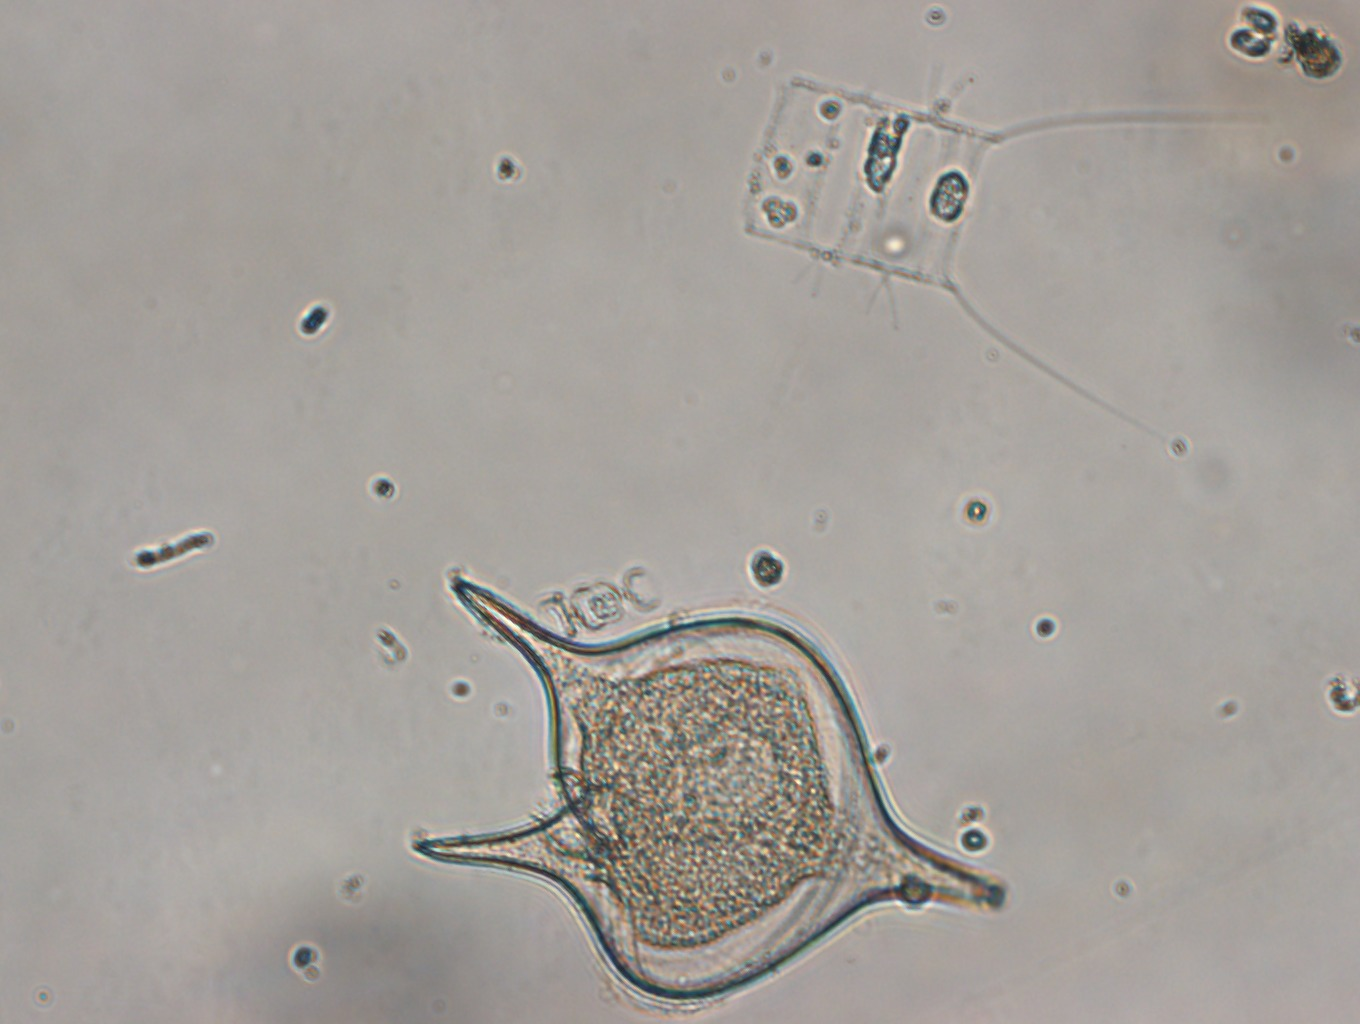protoperidinium: (396, 561, 1004, 1015)
